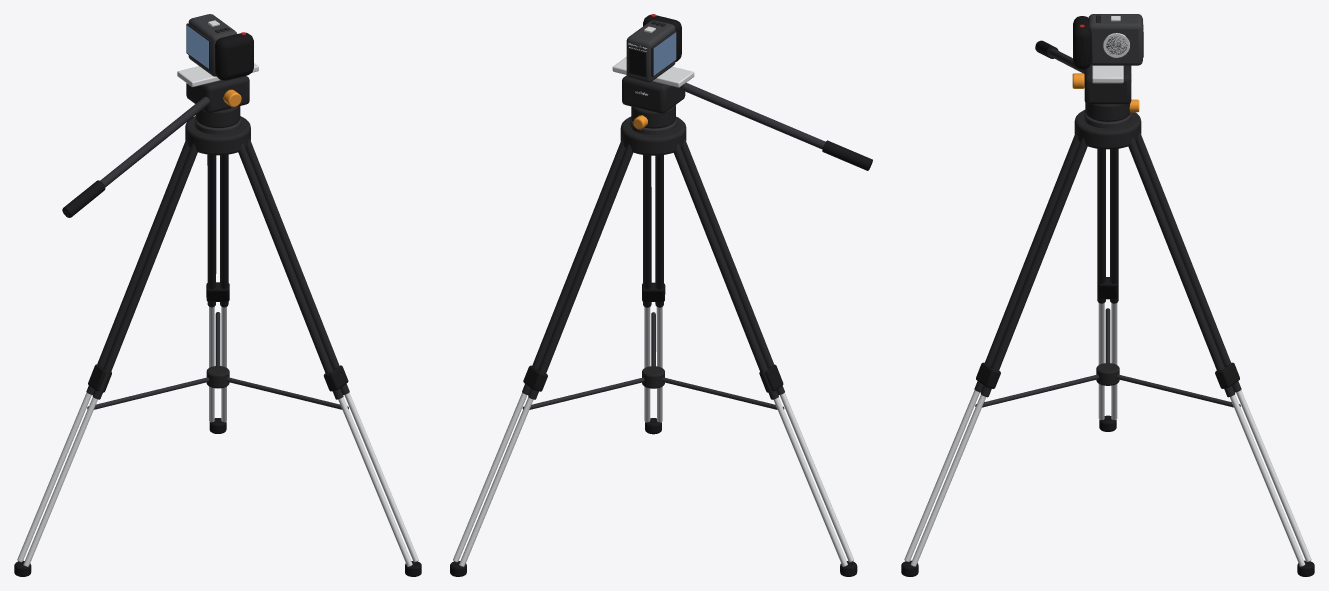
Rendered from blackmagic_pocket_6k_tripie_video.glb.
The picture shows the model from 3 angles, left to right: view 1: azimuth 30°, elevation 25°; view 2: azimuth 150°, elevation 25°; view 3: azimuth 270°, elevation 25°; orthographic projection.
Visible parts, largest first — view 1: Blackmagic Pocket 6K Pro en tripié de video; view 2: Blackmagic Pocket 6K Pro en tripié de video; view 3: Blackmagic Pocket 6K Pro en tripié de video.
Boxes of the visible parts, x1,y1,x2,y2 form: Blackmagic Pocket 6K Pro en tripié de video: (14,14,421,576); Blackmagic Pocket 6K Pro en tripié de video: (450,14,872,576); Blackmagic Pocket 6K Pro en tripié de video: (901,14,1314,576).
Bounding box in the file's own units: 0.9175 × 1.43 × 1.05.
